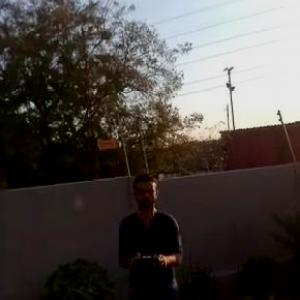follow: (113, 167, 189, 299)
